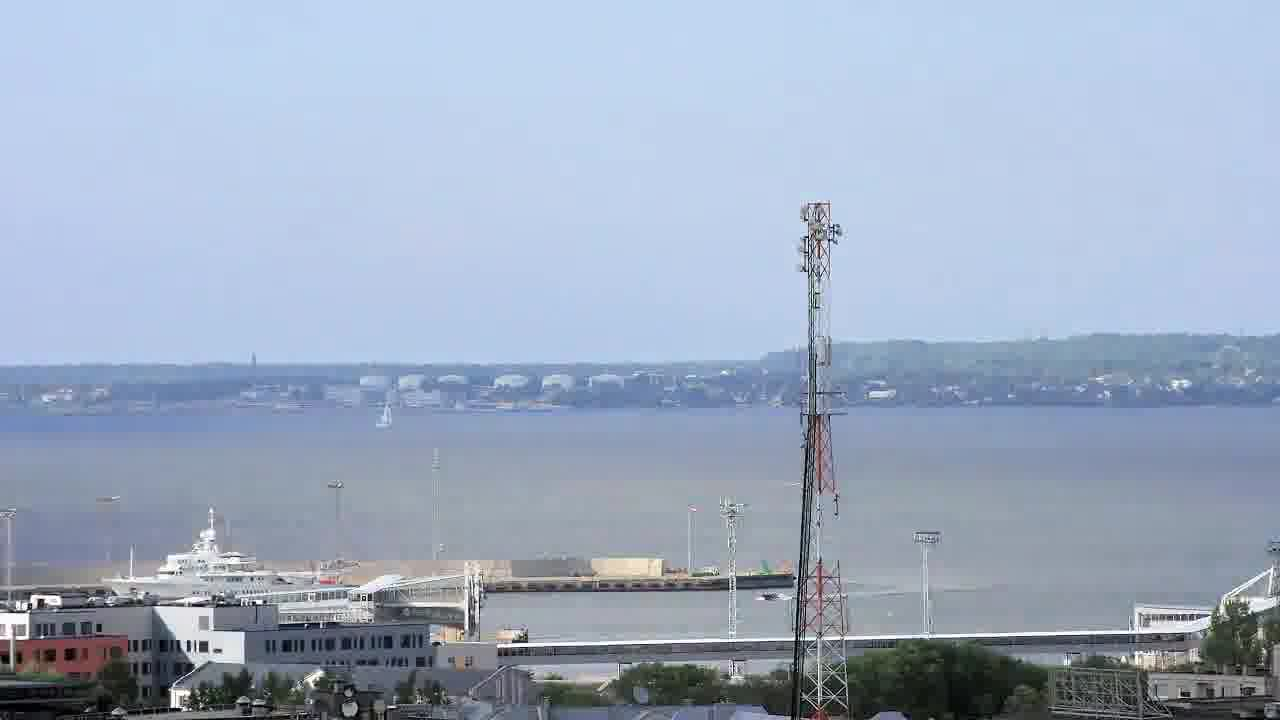type-2: (364, 383, 412, 446)
type-3: (88, 507, 346, 605)
type-4: (741, 574, 793, 612)
